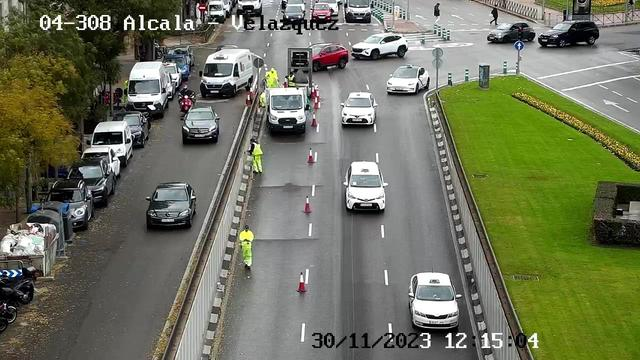car: (409, 267, 463, 330), (145, 181, 196, 231), (66, 158, 116, 207), (46, 179, 94, 230), (343, 161, 389, 214), (538, 20, 599, 48), (293, 43, 348, 72), (351, 33, 408, 60), (180, 106, 220, 144), (112, 111, 149, 148), (387, 64, 430, 95), (340, 92, 378, 126), (81, 147, 120, 179), (216, 44, 265, 68), (487, 21, 535, 43), (163, 54, 191, 80), (172, 45, 195, 71), (162, 63, 182, 89), (281, 4, 306, 24), (204, 1, 226, 23), (237, 0, 262, 18), (310, 3, 332, 22), (315, 0, 339, 15)
motorcycle: (0, 268, 38, 309), (177, 94, 193, 116)
truck: (199, 49, 253, 98), (124, 62, 168, 118), (262, 86, 310, 136), (87, 121, 133, 168), (344, 0, 373, 22)
